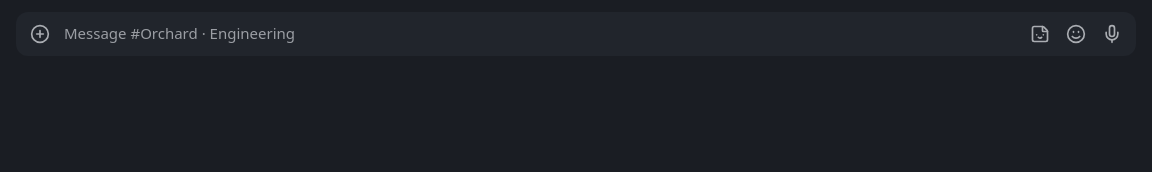
Test: <Composer /> voice notes › starts from the command only when the composer is empty, and keeps a voice message alone
The image size is (1152, 172).
Type "typing" into the text box at (540, 34), box x1=60 y1=18 x2=1020 y2=50
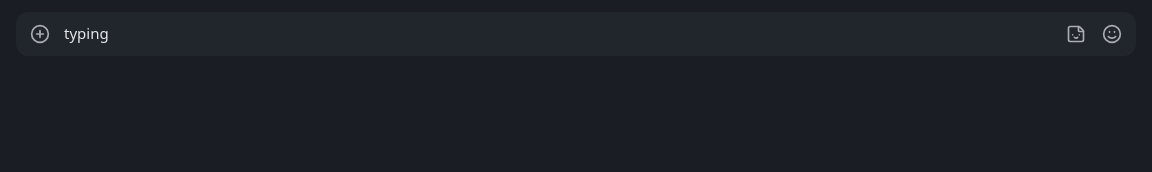
Clear the text box at (558, 34), box x1=60 y1=18 x2=1056 y2=50
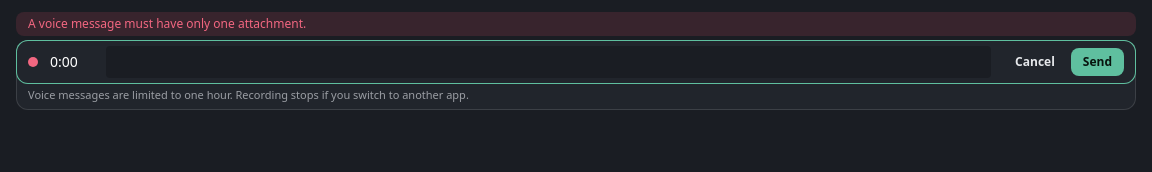
Now the element named "Voice message recorder" is shown, box x1=16 y1=40 x2=1136 y2=84
Now the message reads "A voice message must have only one attachment.", box x1=28 y1=15 x2=306 y2=32
